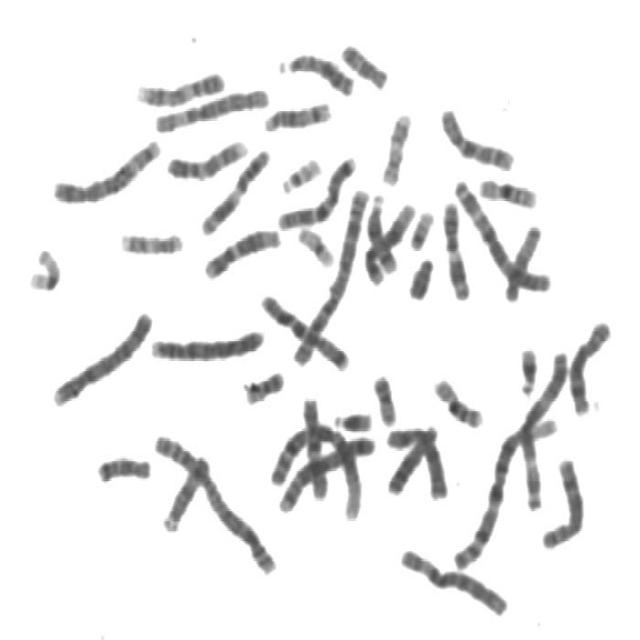A1: (447, 409, 562, 571), (269, 418, 373, 519)
A2: (148, 424, 280, 579), (286, 179, 371, 368)
A3: (447, 171, 553, 296), (512, 343, 571, 512)
B4: (46, 302, 156, 409), (144, 320, 266, 364)
B5: (270, 421, 375, 517), (47, 130, 164, 207)
C10: (433, 98, 517, 173), (296, 387, 330, 503)
C11: (194, 140, 272, 238), (436, 192, 473, 302)
C12: (358, 194, 418, 286), (198, 219, 284, 281)
C6: (393, 540, 510, 619), (148, 79, 271, 135)
C7: (255, 284, 352, 372), (271, 148, 358, 231)
C8: (562, 312, 614, 418), (536, 449, 587, 551)
C9: (130, 62, 228, 109), (160, 131, 250, 181)
D13: (273, 44, 356, 98), (386, 424, 442, 496)
D14: (361, 186, 400, 276), (257, 92, 334, 134)
D15: (156, 447, 212, 533), (498, 218, 544, 303)
E16: (427, 369, 486, 430), (472, 169, 540, 210)
E17: (375, 105, 414, 186), (114, 223, 185, 257)
E18: (334, 35, 390, 91), (90, 446, 154, 486)
F19: (292, 217, 337, 269), (23, 240, 63, 293)
F20: (237, 361, 287, 406), (366, 366, 399, 428)
G21: (513, 338, 541, 398), (327, 402, 374, 433)
G22: (275, 149, 324, 195), (404, 202, 436, 251)
X: (381, 418, 447, 501)
Y: (402, 248, 437, 301)
